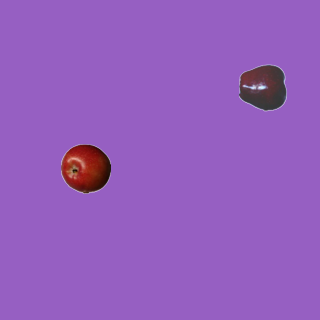Apple Braeburn: (60, 143, 110, 193)
Apple Red Delicious: (238, 62, 288, 112)
